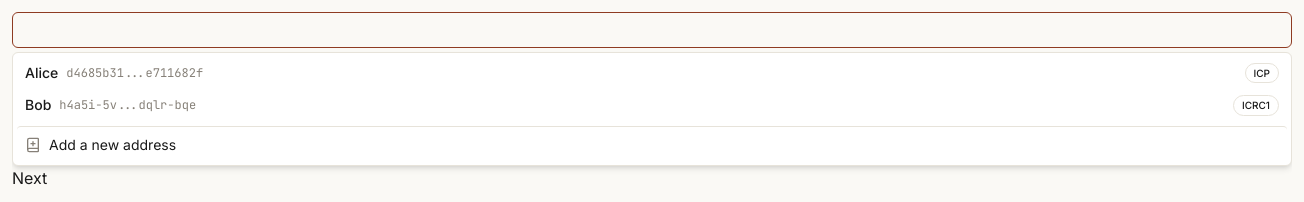
Test case: DestinationInput › closes the list and submits the form on Enter without an active match
The image size is (1304, 202).
Step 1. Type "foo" into the dropdown with test id "destination" → (652, 30), box [12,12,1292,48]
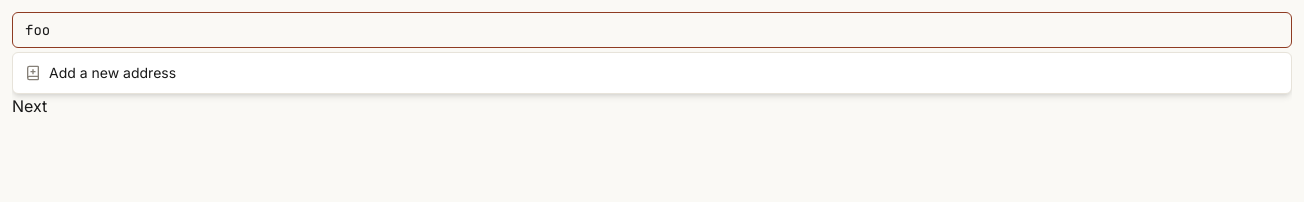
Expected: the element with test id "destination-list" is shown, [12,52,1292,94]
Step 2. Press Enter
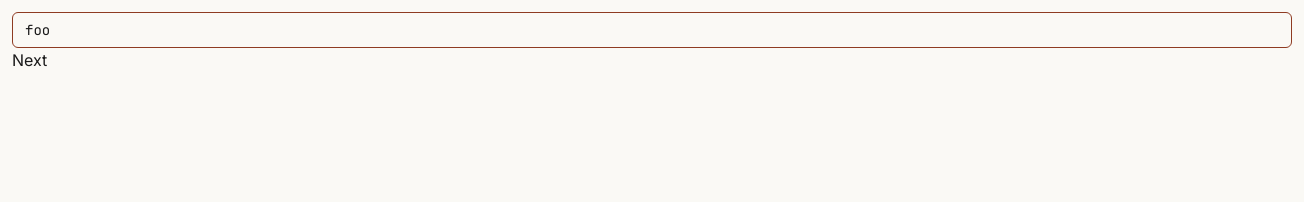
Expected: the element with test id "destination-list" is gone
